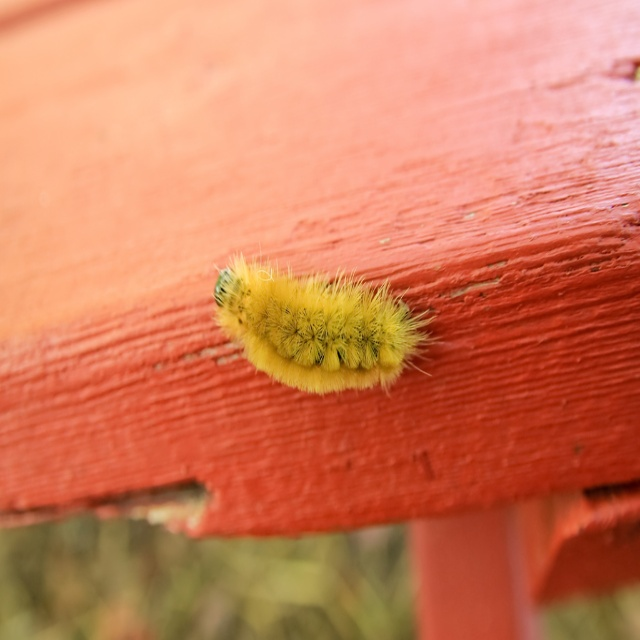Caterpillar: (214, 239, 446, 396)
